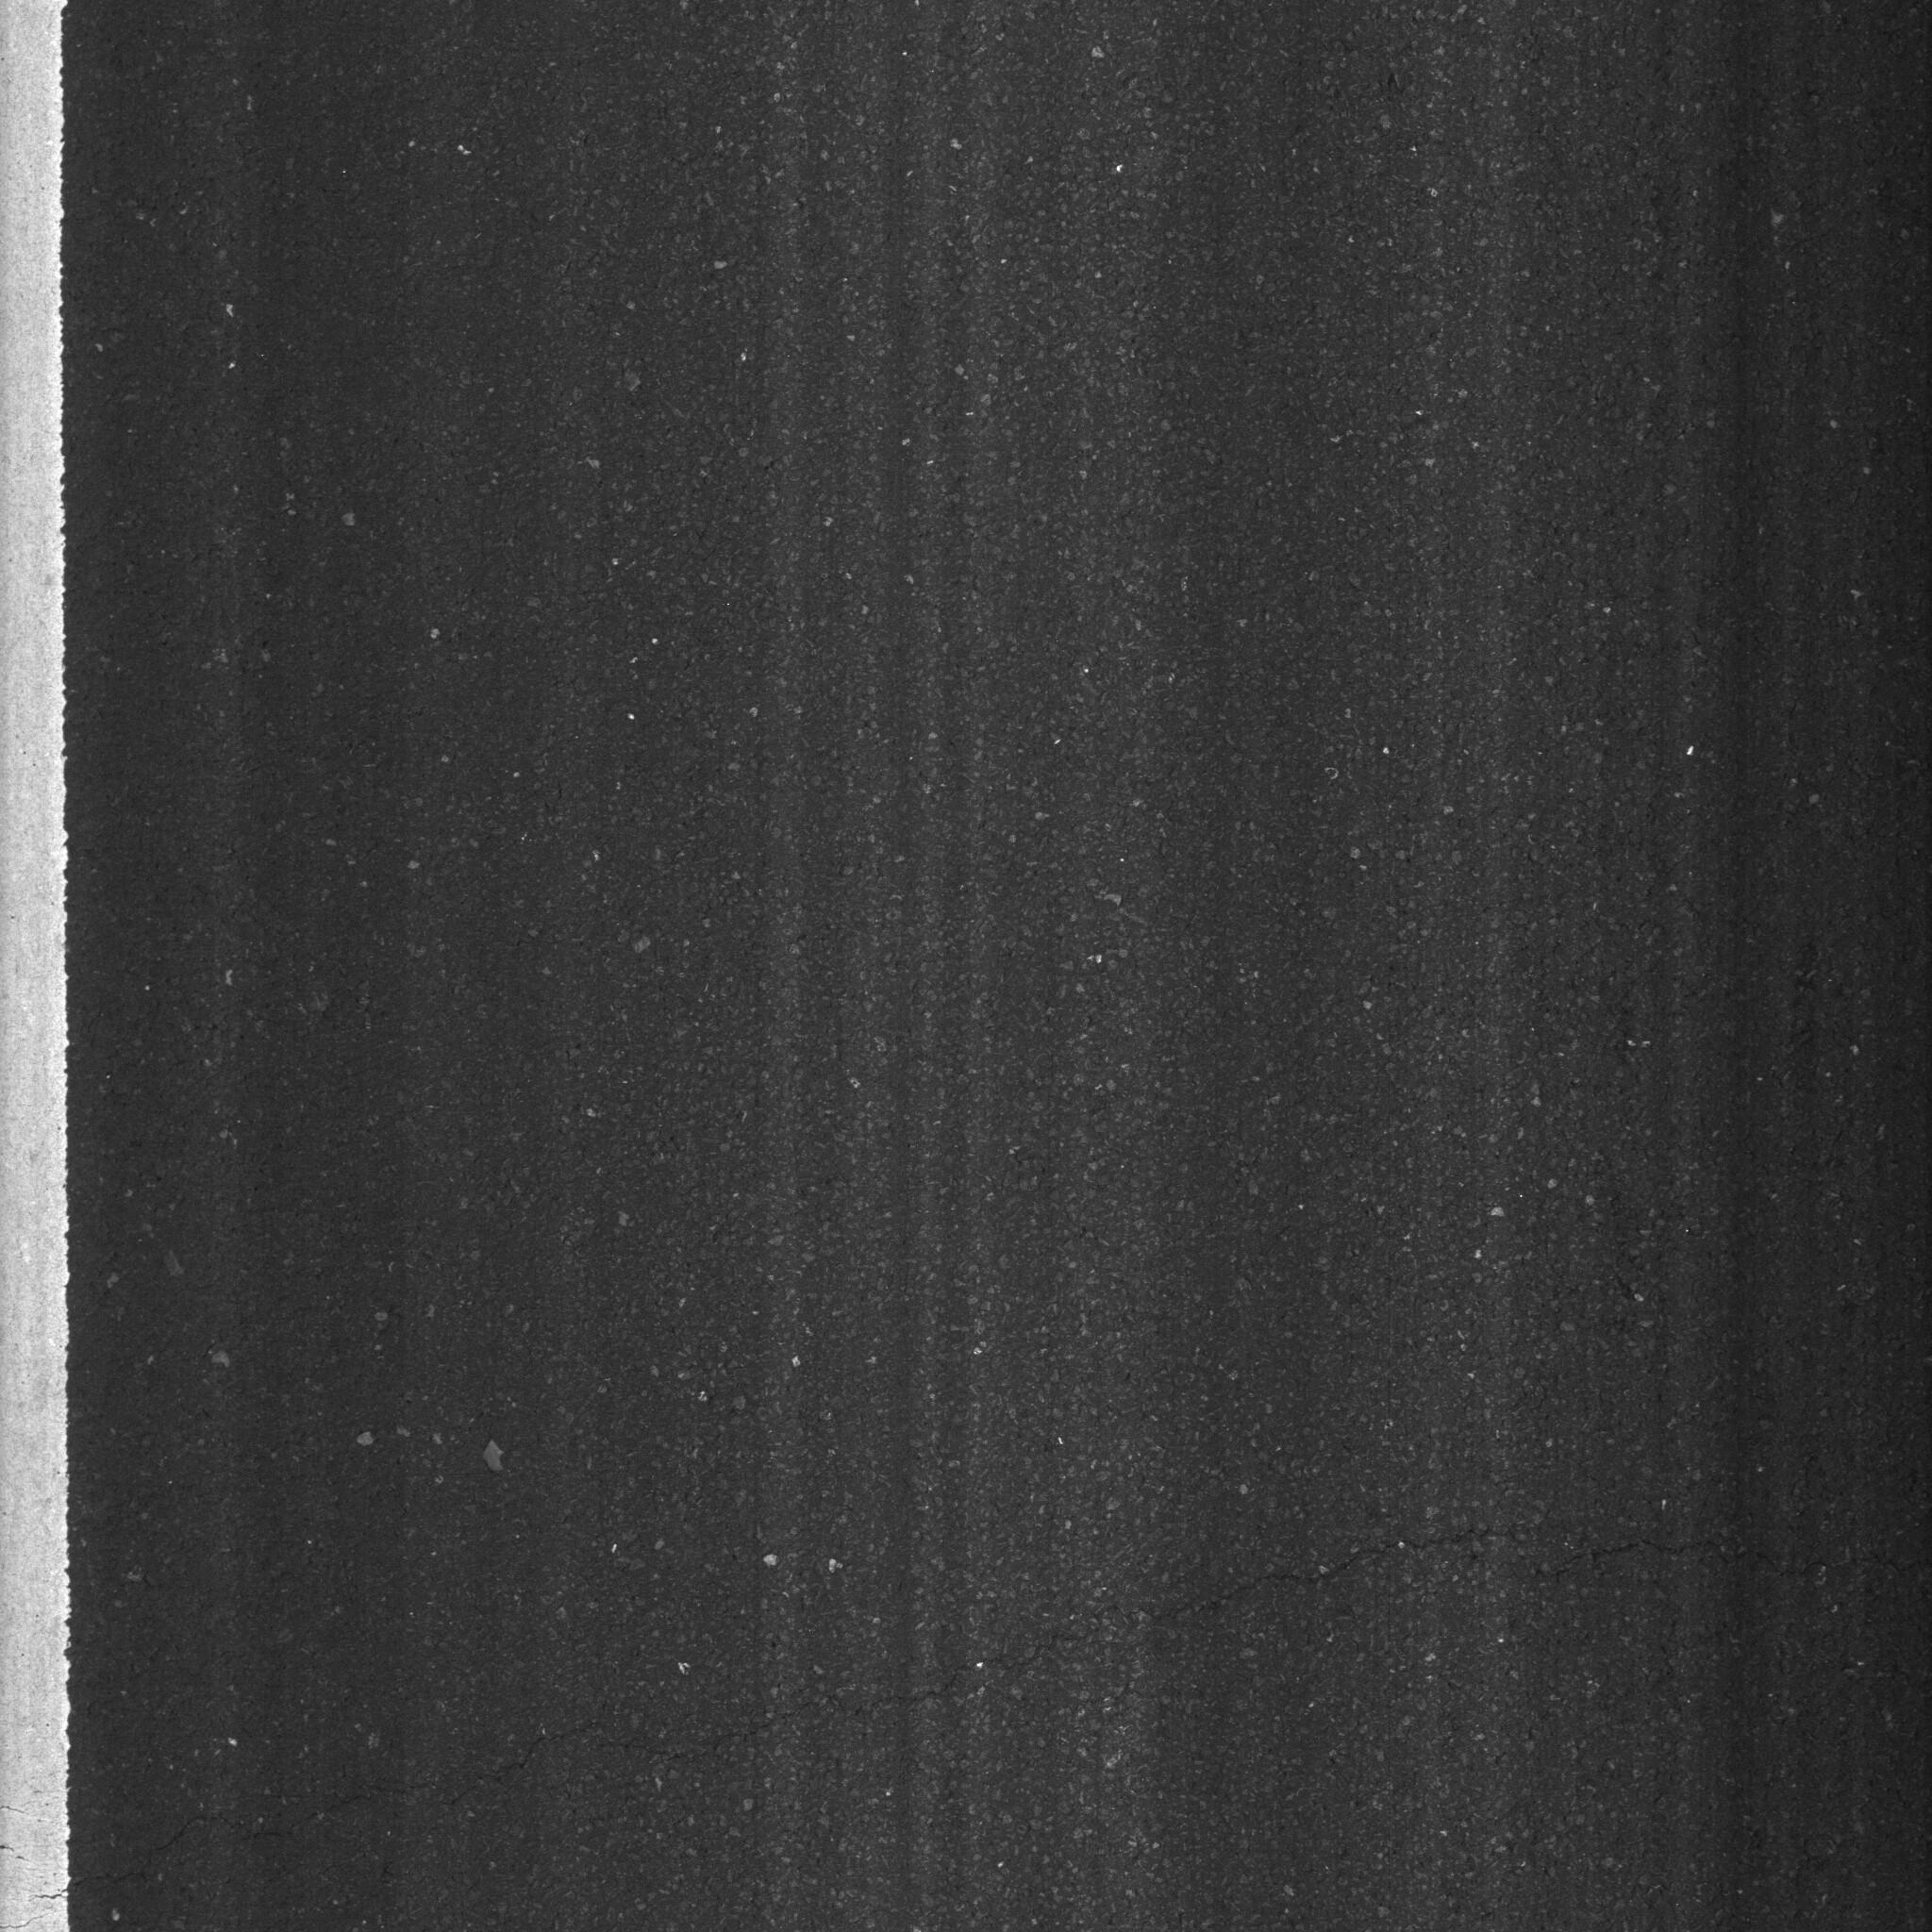transeverse: (58, 1513, 1930, 1902)
